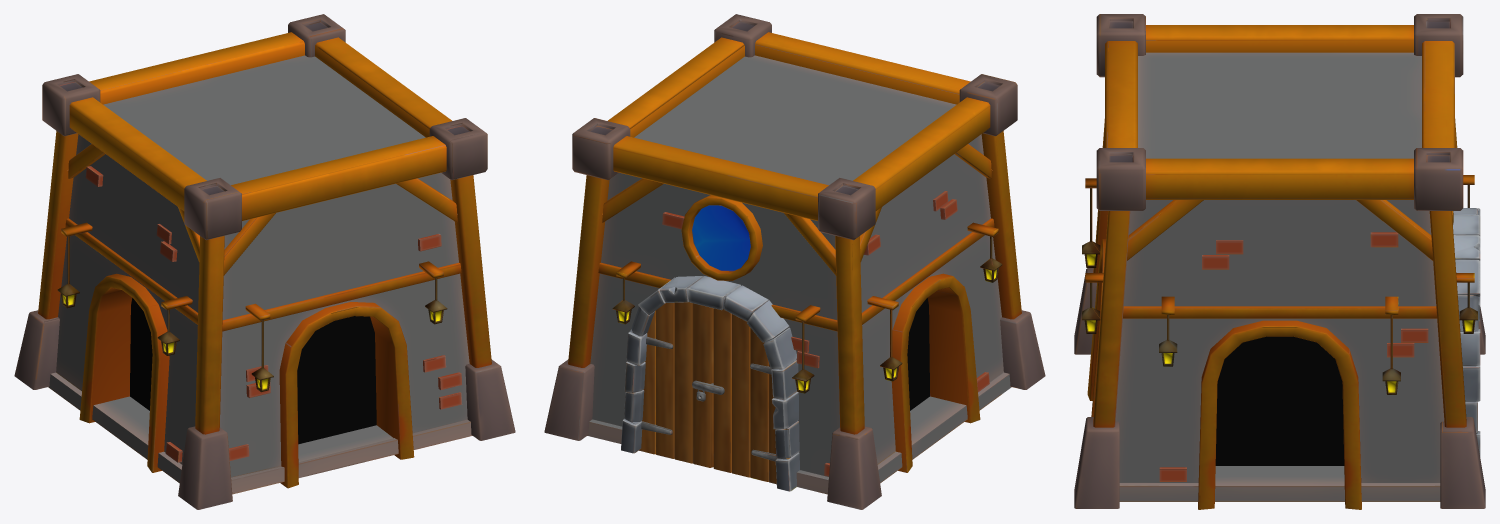
3 views of the same model, side by side, from view 1: azimuth 30°, elevation 25°; view 2: azimuth 150°, elevation 25°; view 3: azimuth 270°, elevation 25° (orthographic). The views are drawn at different scales.
Parts seen in each view (by area): view 1: Cube.005_Baked; view 2: Cube.005_Baked; view 3: Cube.005_Baked.
Part boxes in pixels (box(x1,y1,x2,y2)): Cube.005_Baked: box(14, 14, 515, 509); Cube.005_Baked: box(544, 14, 1045, 509); Cube.005_Baked: box(1074, 14, 1485, 509).
Bounding box in the file's own units: 300 × 272 × 300.
Materials: 1 (1 with a texture image).
